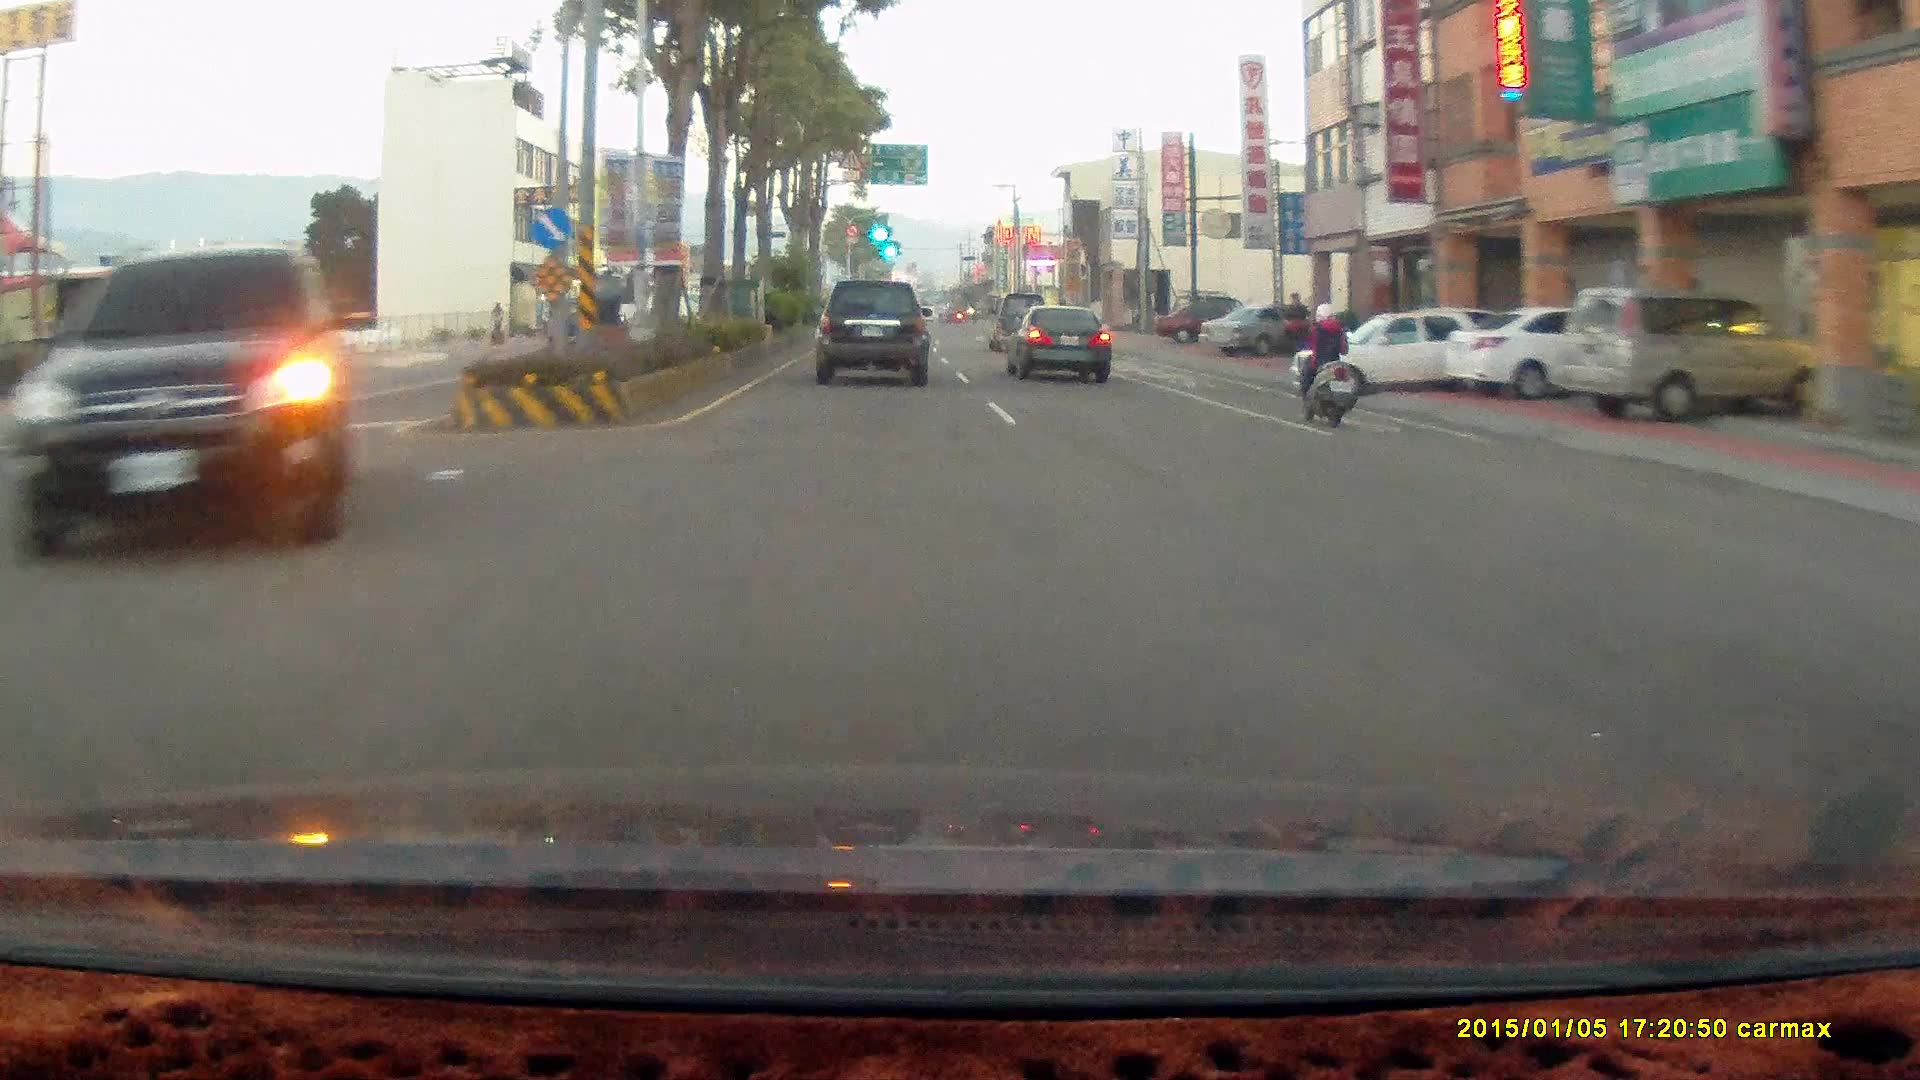pedestrian: (1279, 291, 1311, 370)
rider: (1286, 293, 1369, 434), (1292, 299, 1357, 426)
vehicle: (0, 246, 376, 557), (10, 247, 335, 563), (1551, 284, 1823, 432), (1554, 284, 1830, 421), (1443, 302, 1689, 401), (1290, 310, 1522, 407), (1440, 300, 1651, 398), (1289, 309, 1495, 397), (814, 280, 933, 389), (814, 280, 930, 389), (1007, 306, 1123, 386), (1004, 302, 1109, 382), (1200, 304, 1322, 360), (1200, 304, 1322, 359), (1154, 301, 1265, 343), (985, 291, 1051, 351)
